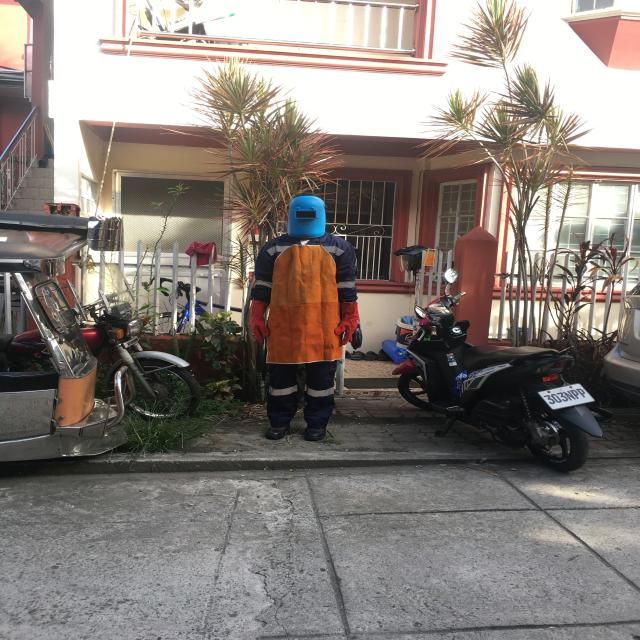with_helmet: (260, 186, 341, 241)
